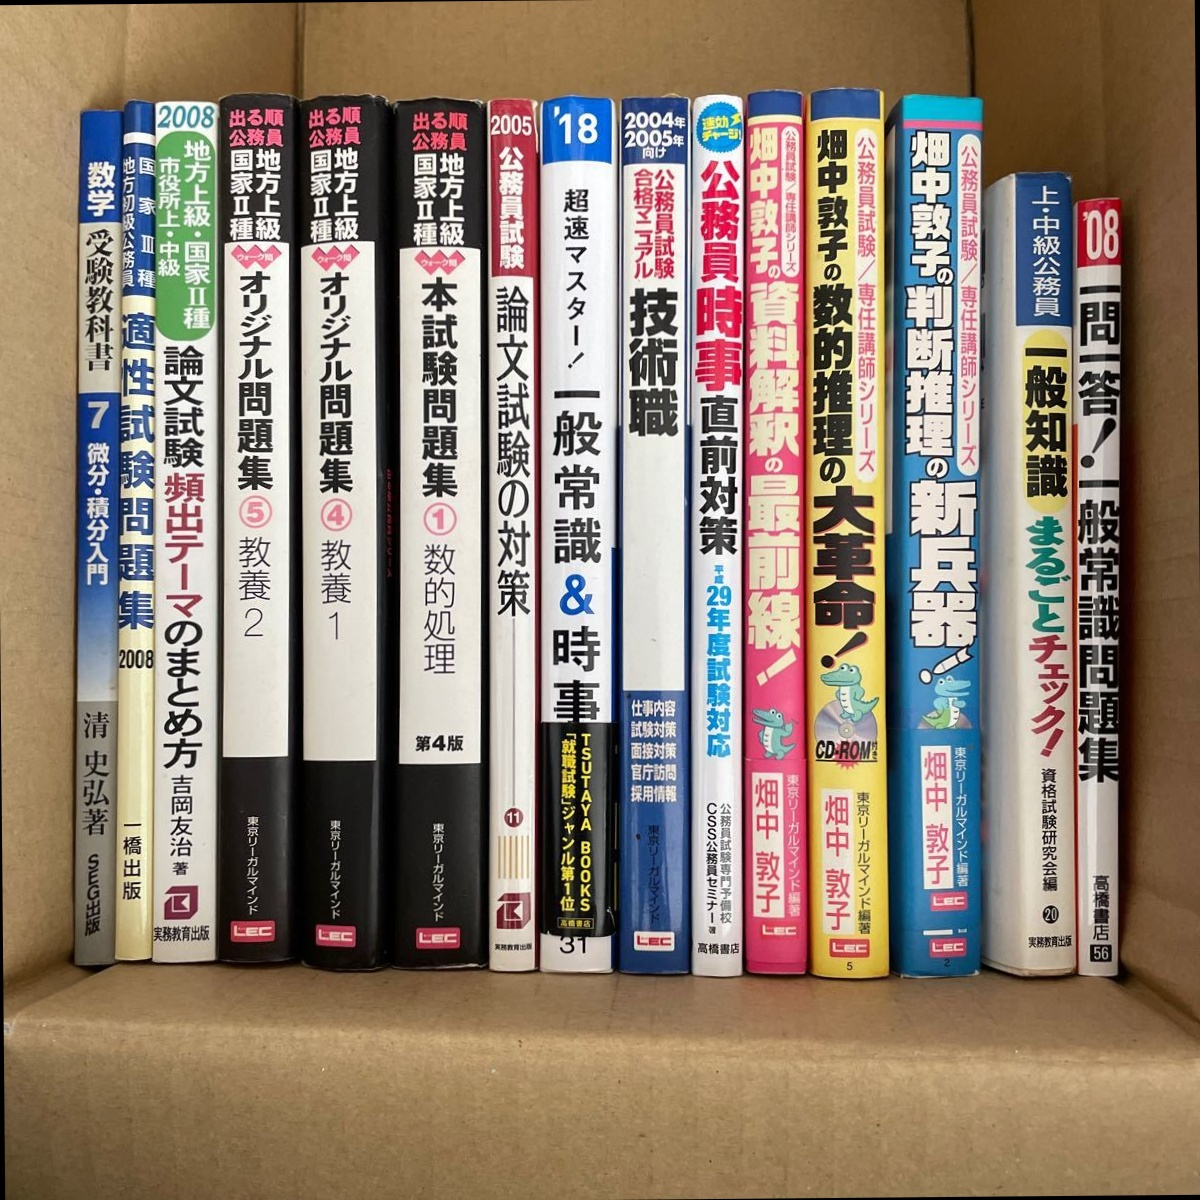book: (386, 93, 491, 974), (889, 91, 989, 978), (295, 92, 395, 978), (799, 81, 895, 981), (211, 87, 305, 974), (536, 91, 621, 976), (613, 91, 696, 977), (149, 93, 225, 971), (738, 86, 809, 982), (1005, 164, 1079, 984), (479, 95, 546, 976), (684, 86, 747, 982), (1063, 196, 1129, 984), (68, 98, 119, 967), (115, 95, 158, 963)
